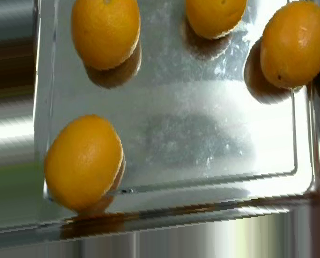Orange: (42, 114, 123, 206), (260, 1, 320, 89), (70, 1, 141, 69)
